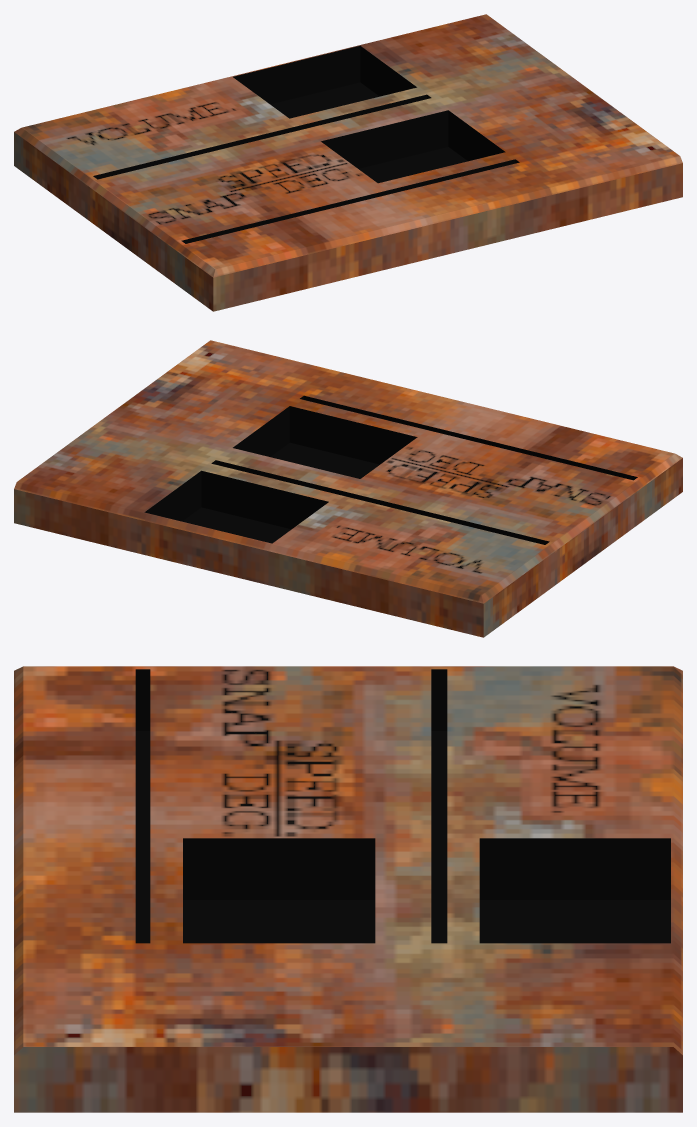
File: settings.fbx
3 renders of one model, top to bottom at view 1: azimuth 30°, elevation 25°; view 2: azimuth 150°, elevation 25°; view 3: azimuth 270°, elevation 25°, orthographic. The views are drawn at different scales.
Parts seen in each view (by area): view 1: Settings; view 2: Settings; view 3: Settings.
Part boxes in pixels (x1,y1,x2,y2): Settings: [14, 14, 682, 311]; Settings: [14, 340, 682, 637]; Settings: [14, 666, 682, 1112].
Bounding box in the file's own units: 136 × 10.82 × 100.
Materials: 2 (1 with a texture image).
